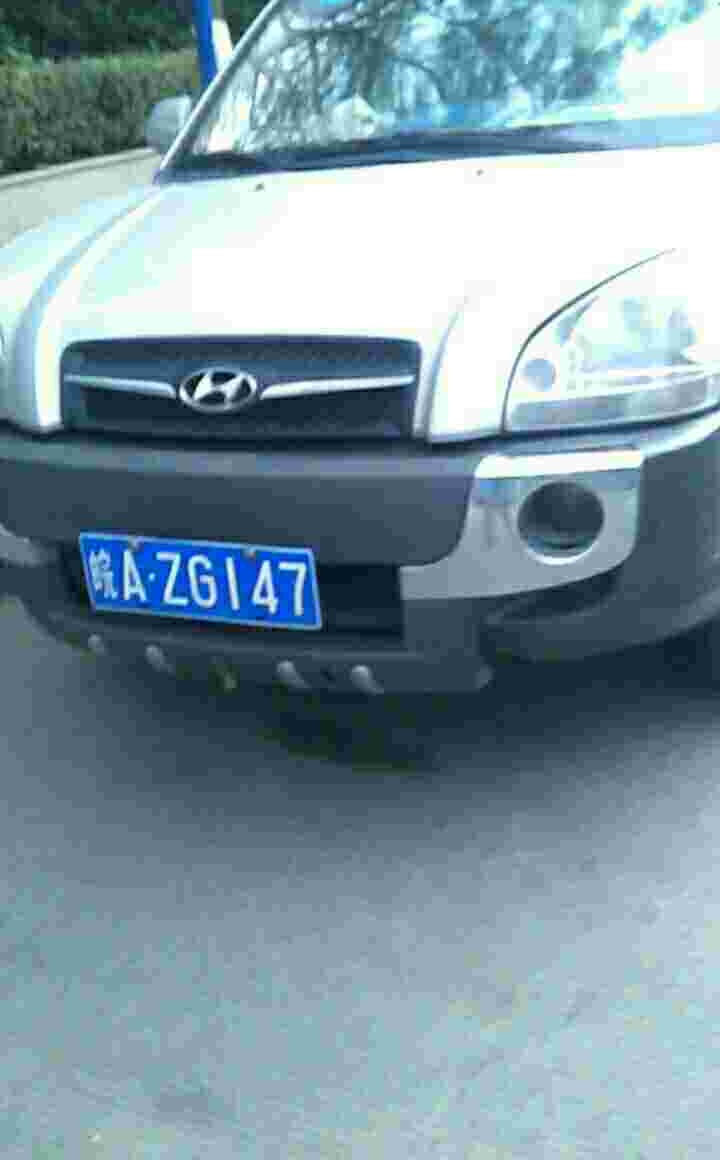plate: (87, 529, 316, 633)
